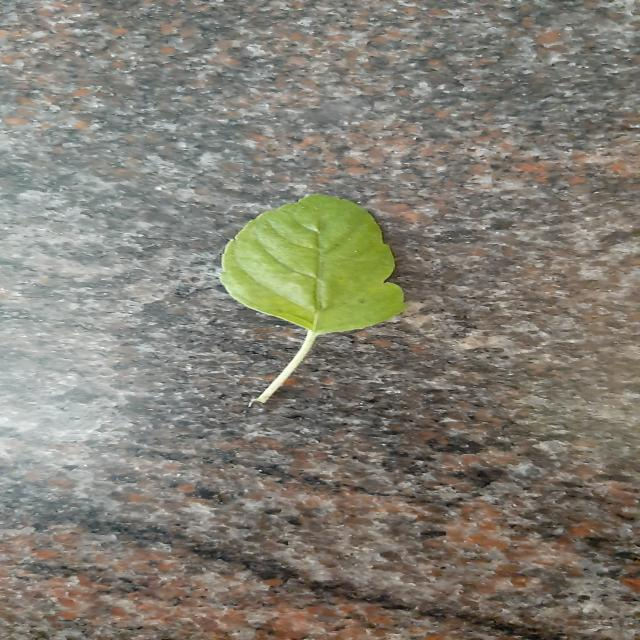tulsi: (219, 195, 406, 402)
